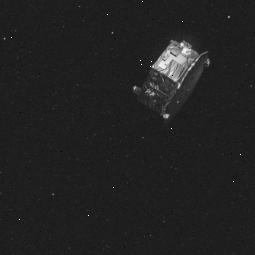lisa_pathfinder: (121, 27, 224, 129)
